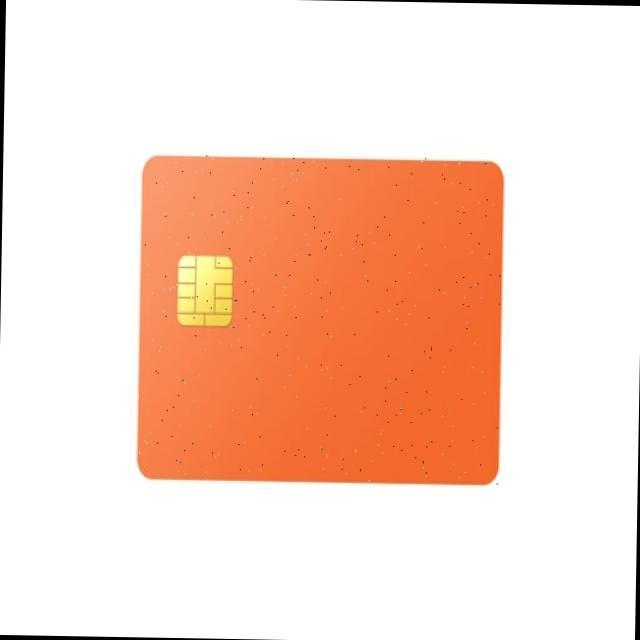payment_card: (137, 154, 503, 485)
